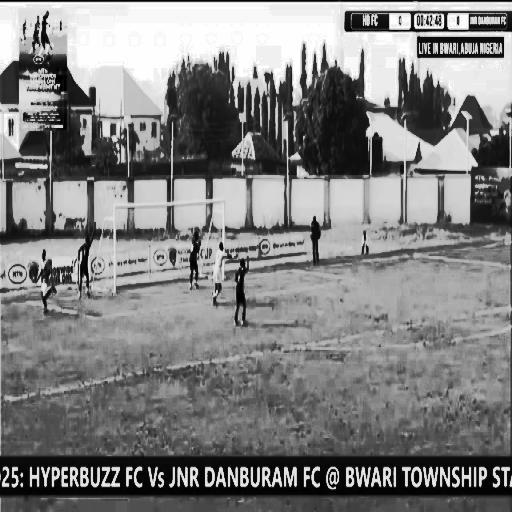keeper2: (208, 240, 228, 308)
team1: (35, 246, 62, 318)
team2: (71, 223, 98, 301), (231, 242, 253, 331), (188, 220, 204, 292)
